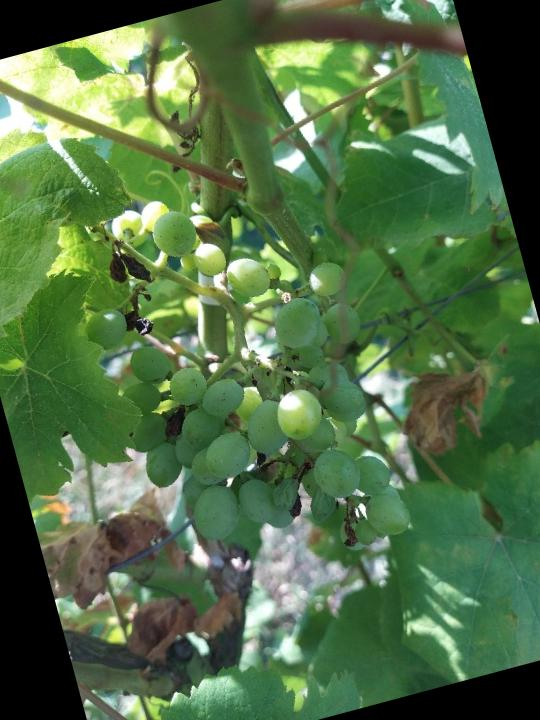grape: (56, 157, 423, 611)
